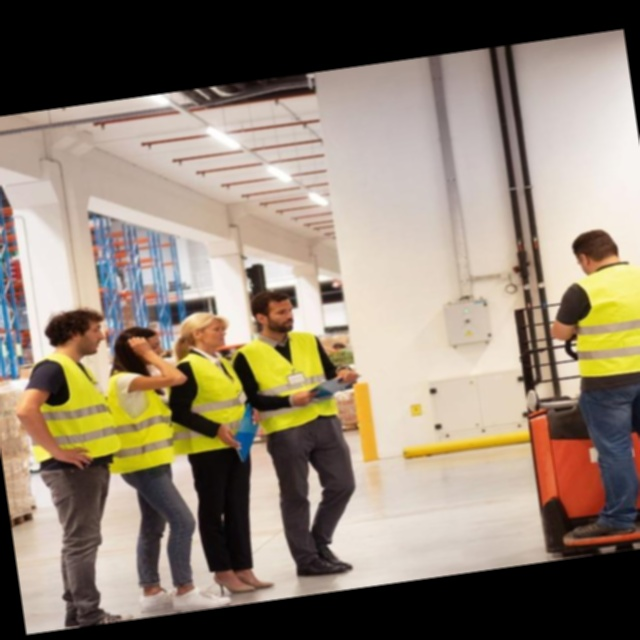Con_Chaleco: (19, 352, 119, 471), (241, 327, 338, 433), (564, 259, 640, 388), (171, 347, 255, 456), (105, 362, 183, 473)
Sin_Casco_Mascarrilla: (42, 305, 105, 361), (251, 288, 298, 338), (569, 227, 621, 272)
